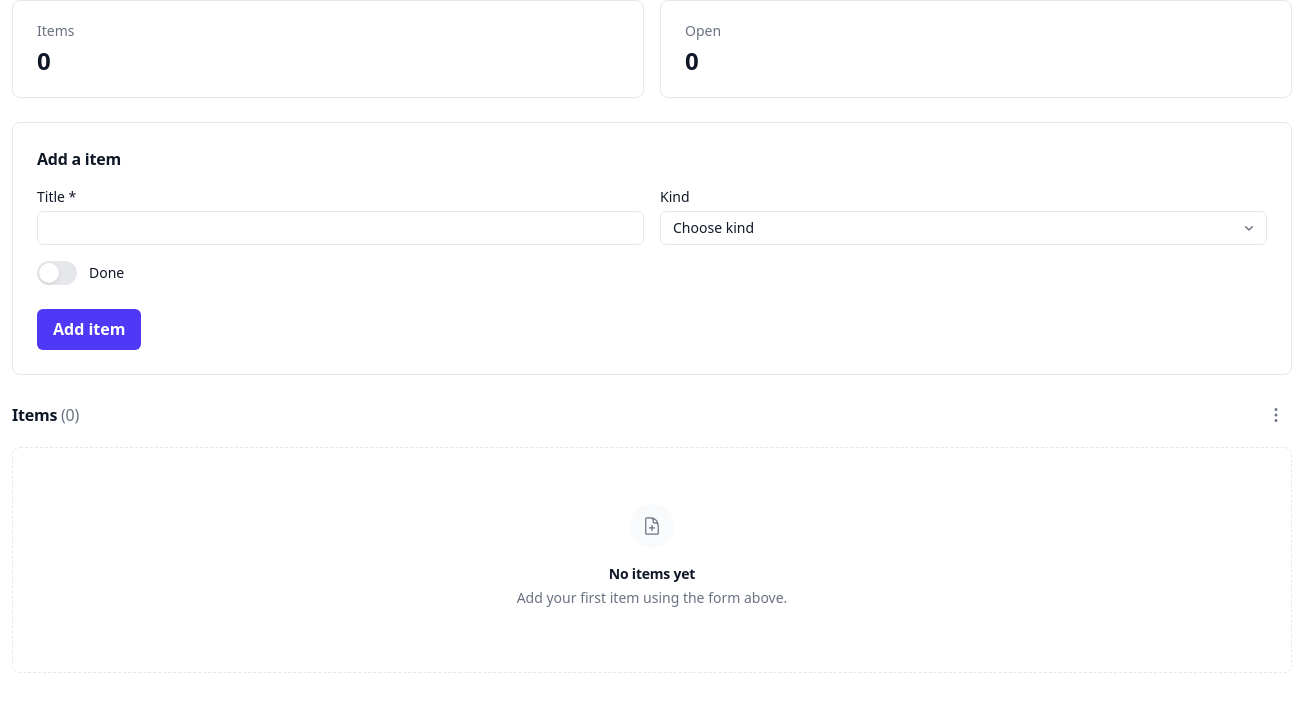
Test: collection view › adds a record and shows it in the collection
Type "First item" into the field labelled "Title *" at (340, 228), box [37,211,644,245]
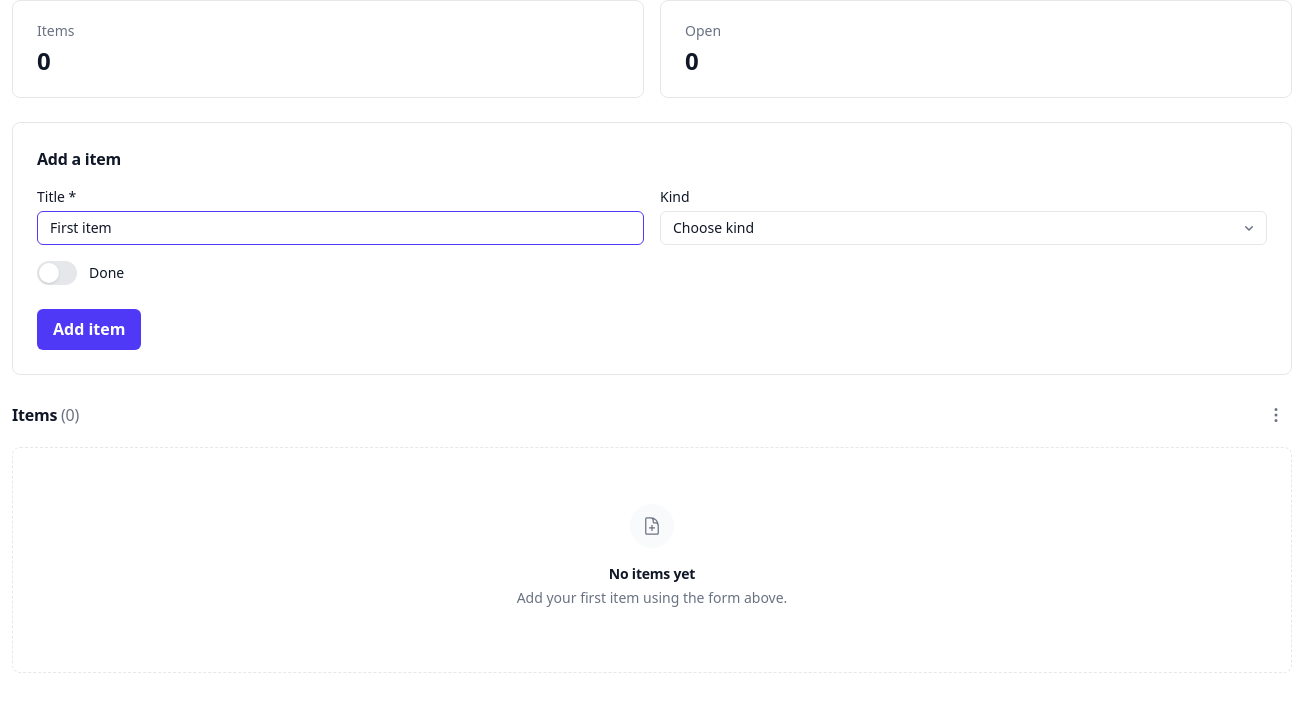
Select "A" in the dropdown labelled "Kind" at (964, 228), box [660,211,1267,245]
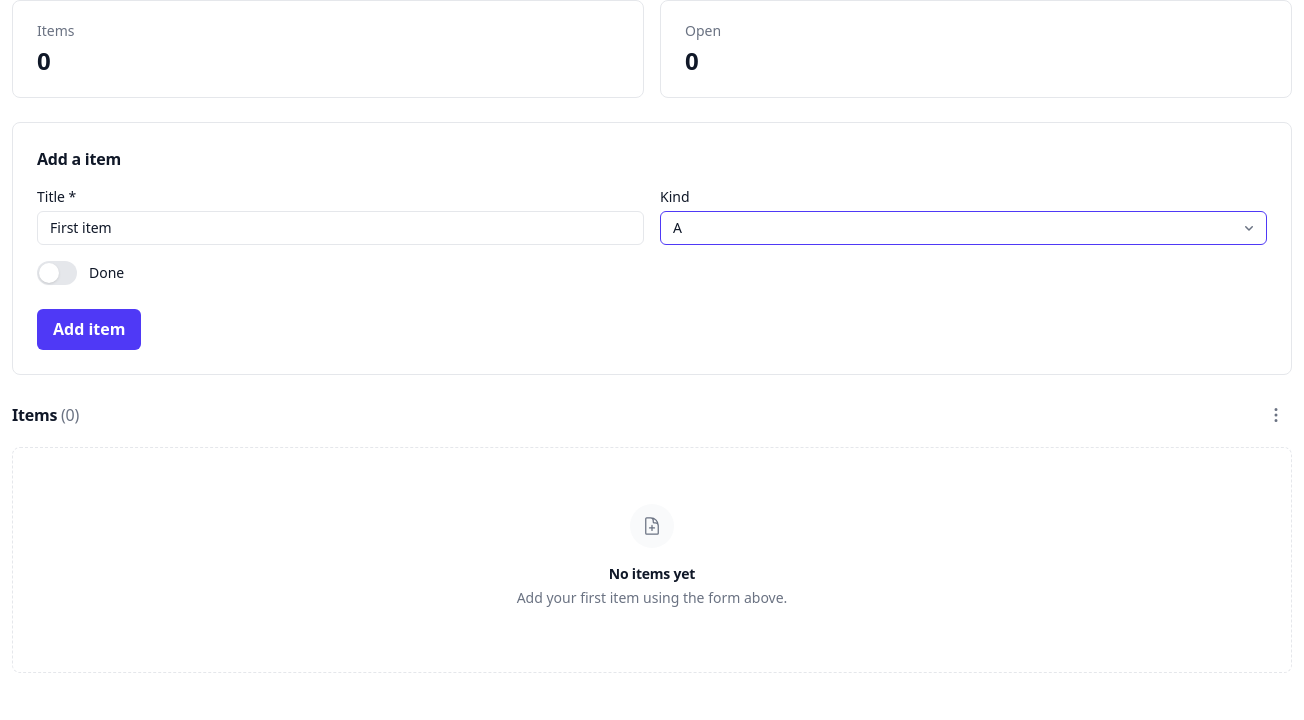
Click the button "Add item" at (89, 329), box [37,309,142,350]
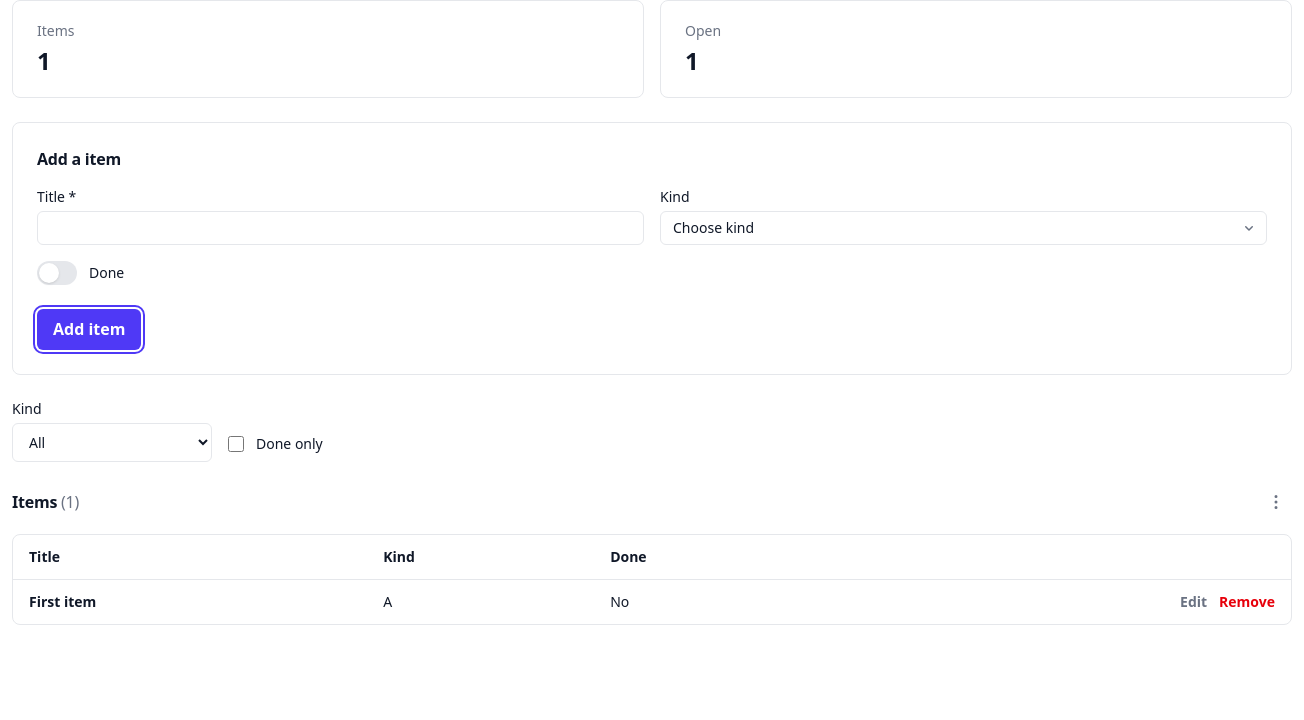
Expected: the text "First item" is shown, [29,592,96,611]
Expected: the text named "Items" reads "1", [37,44,50,77]
